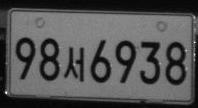3: (139, 41, 160, 84)
6: (89, 39, 111, 83)
8: (164, 41, 187, 86), (38, 37, 60, 81)
9: (14, 36, 36, 80), (115, 40, 137, 83)
서: (63, 47, 85, 81)
